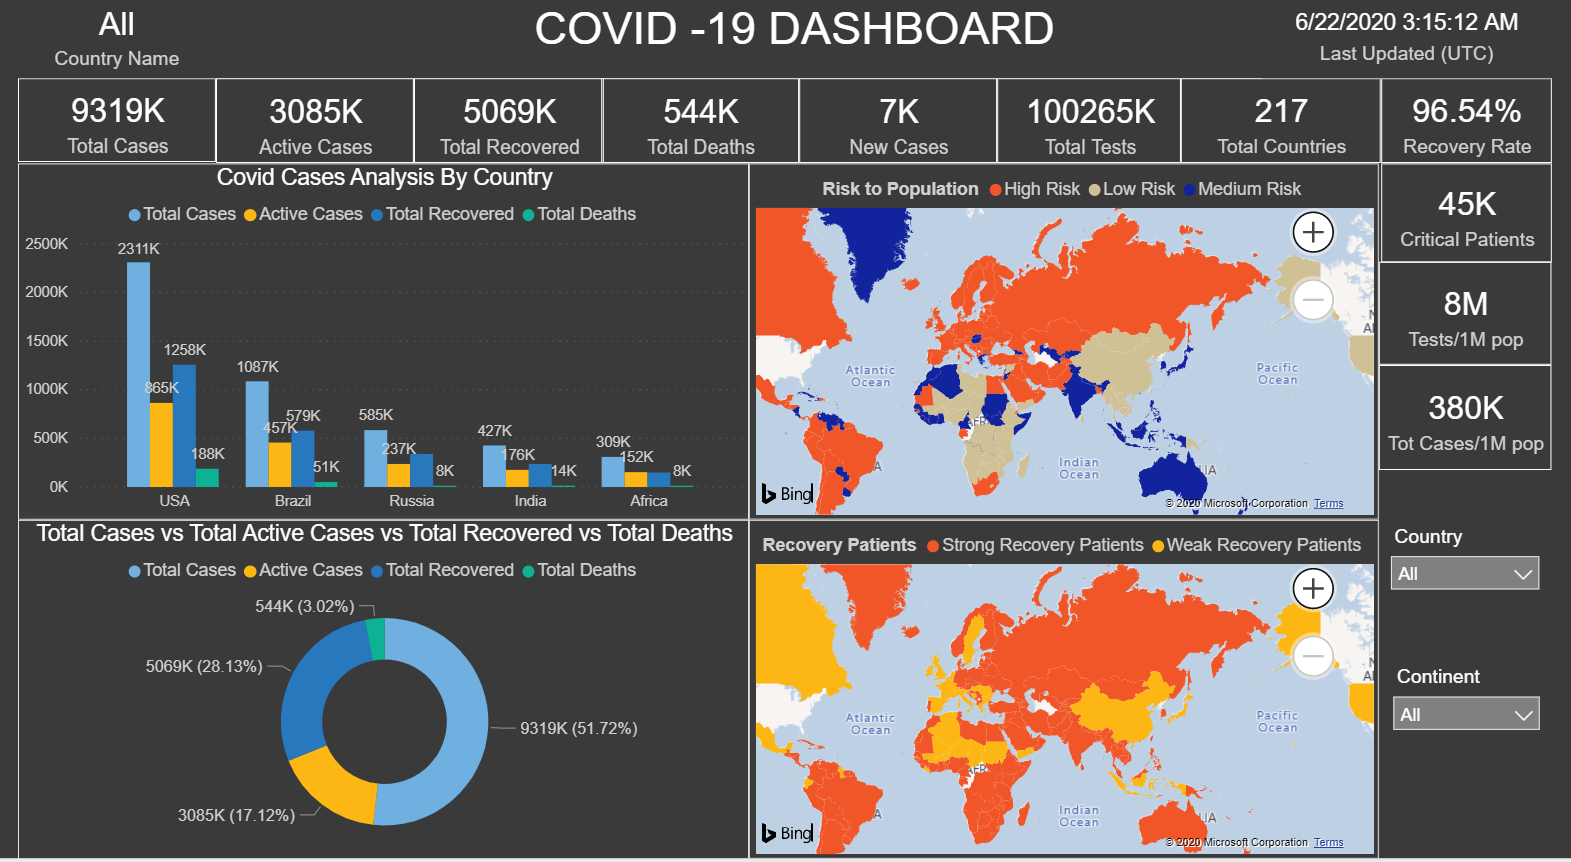

The dashboard page shown, as its layout file describes it:
{"tool":"powerbi","page":{"name":"Dashboard","canvas":[1280,720],"ordinal":0},"visuals":[{"type":"textbox","title":"COVID -19 DASHBOARD","box":[404.8,12.8,472,51.2],"z":0},{"type":"card","fields":{"Values":["Sum(Covid_data.TotalCases)"]},"box":[0,75.2,163.2,68.8],"z":1000},{"type":"card","fields":{"Values":["Sum(Covid_data.TotalRecovered)"]},"box":[326.4,75.2,156.8,70.4],"z":2000},{"type":"card","fields":{"Values":["Sum(Covid_data.Total Deaths)"]},"box":[481.6,75.2,163.2,70.4],"z":3000},{"type":"card","fields":{"Values":["Sum(Covid_data.ActiveCases)"]},"box":[163.2,75.2,163.2,70.4],"z":4000},{"type":"card","fields":{"Values":["Sum(Covid_data.New Cases)"]},"box":[644.8,75.2,163.2,70.4],"z":5000},{"type":"card","fields":{"Values":["Sum(Covid_data.Total Tests)"]},"box":[808,75.2,152,70.4],"z":6000},{"type":"card","fields":{"Values":["Count(Covid_data.Country)"]},"box":[960,75.2,156.8,70.4],"z":7000},{"type":"card","fields":{"Values":["Avg(Covid_data.PopulationImmunity)"]},"box":[1116.8,75.2,148.8,70.4],"z":8000},{"type":"clusteredColumnChart","title":"Covid Cases Analysis By Country","fields":{"Category":["Covid_data.Country"],"Y":["Sum(Covid_data.Total Cases)","Sum(Covid_data.Active Cases)","Sum(Covid_data.Total Recovered)","Sum(Covid_data.Total Deaths)"]},"box":[0,145.6,603.2,294.4],"z":9000},{"type":"card","fields":{"Values":["Min(Last_Refreshed.Last_Refreshed)"]},"box":[1027.2,1.6,238.4,73.6],"z":10000},{"type":"donutChart","title":"Total Cases vs Total Active Cases vs Total Recovered vs Total Deaths","fields":{"Y":["Sum(Covid_data.Total Cases)","Sum(Covid_data.Active Cases)","Sum(Covid_data.Total Recovered)","Sum(Covid_data.Total Deaths)"]},"box":[0,440,603.2,280],"z":11000},{"type":"filledMap","fields":{"Category":["Covid_data.Country"],"Series":["Covid_data.RisktoPopulation"]},"box":[603.2,145.6,520,294.4],"z":12000},{"type":"filledMap","fields":{"Category":["Covid_data.Country"],"Series":["Covid_data.RecoveryPatients"]},"box":[603.2,440,520,280],"z":13000},{"type":"slicer","fields":{"Values":["Covid_data.Country"]},"box":[1123.2,440,142.4,100.8],"z":14000},{"type":"card","fields":{"Values":["Sum(Covid_data.Critical Patients)"]},"box":[1124.8,145.6,140.8,81.6],"z":15000},{"type":"card","fields":{"Values":["Sum(Covid_data.Tests/1M pop)"]},"box":[1123.2,227.2,142.4,84.8],"z":16000},{"type":"card","fields":{"Values":["Sum(Covid_data.Tot Cases/1M pop)"]},"box":[1123.2,312,142.4,86.4],"z":17000},{"type":"slicer","fields":{"Values":["Covid_data.Continent"]},"box":[1124.8,555.2,140.8,91.2],"z":18000},{"type":"card","fields":{"Values":["Covid_data.Country Card"]},"box":[0,1.6,163.2,73.6],"z":19000}]}

Visuals, with their boxes in screenshot pixels (x1, y1, x2, y2), scaled from the page's 1280x720 canvas onto the 1571x862 screenshot:
"COVID -19 DASHBOARD" textbox: (x1=497, y1=15, x2=1076, y2=77)
card - Sum(Covid_data.TotalCases): (x1=0, y1=90, x2=200, y2=172)
card - Sum(Covid_data.TotalRecovered): (x1=401, y1=90, x2=593, y2=174)
card - Sum(Covid_data.Total Deaths): (x1=591, y1=90, x2=791, y2=174)
card - Sum(Covid_data.ActiveCases): (x1=200, y1=90, x2=401, y2=174)
card - Sum(Covid_data.New Cases): (x1=791, y1=90, x2=992, y2=174)
card - Sum(Covid_data.Total Tests): (x1=992, y1=90, x2=1178, y2=174)
card - Count(Covid_data.Country): (x1=1178, y1=90, x2=1371, y2=174)
card - Avg(Covid_data.PopulationImmunity): (x1=1371, y1=90, x2=1553, y2=174)
"Covid Cases Analysis By Country" clusteredColumnChart: (x1=0, y1=174, x2=740, y2=527)
card - Min(Last_Refreshed.Last_Refreshed): (x1=1261, y1=2, x2=1553, y2=90)
"Total Cases vs Total Active Cases vs Total Recovered vs Total Deaths" donutChart: (x1=0, y1=527, x2=740, y2=861)
filledMap - Covid_data.Country x Covid_data.RisktoPopulation: (x1=740, y1=174, x2=1379, y2=527)
filledMap - Covid_data.Country x Covid_data.RecoveryPatients: (x1=740, y1=527, x2=1379, y2=861)
slicer - Covid_data.Country: (x1=1379, y1=527, x2=1553, y2=647)
card - Sum(Covid_data.Critical Patients): (x1=1381, y1=174, x2=1553, y2=272)
card - Sum(Covid_data.Tests/1M pop): (x1=1379, y1=272, x2=1553, y2=374)
card - Sum(Covid_data.Tot Cases/1M pop): (x1=1379, y1=374, x2=1553, y2=477)
slicer - Covid_data.Continent: (x1=1381, y1=665, x2=1553, y2=774)
card - Covid_data.Country Card: (x1=0, y1=2, x2=200, y2=90)
